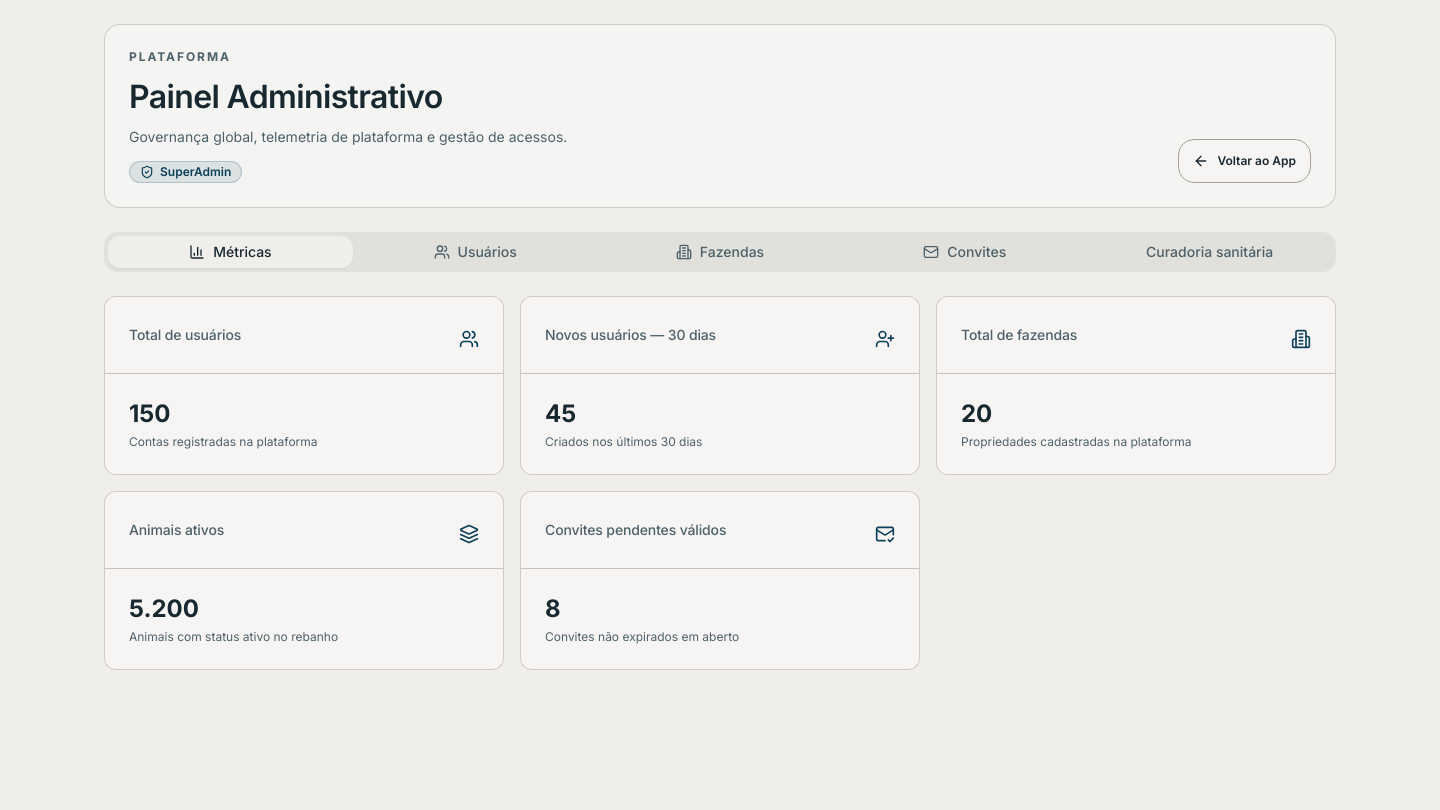
AdminBackoffice Page (A3.1 + A4) › permite alternar entre as abas e carregar a listagem de usuários
This screenshot has width=1440, height=810.
Step 1. Click the tab "Usuários" → (475, 252), box [353,236,598,268]
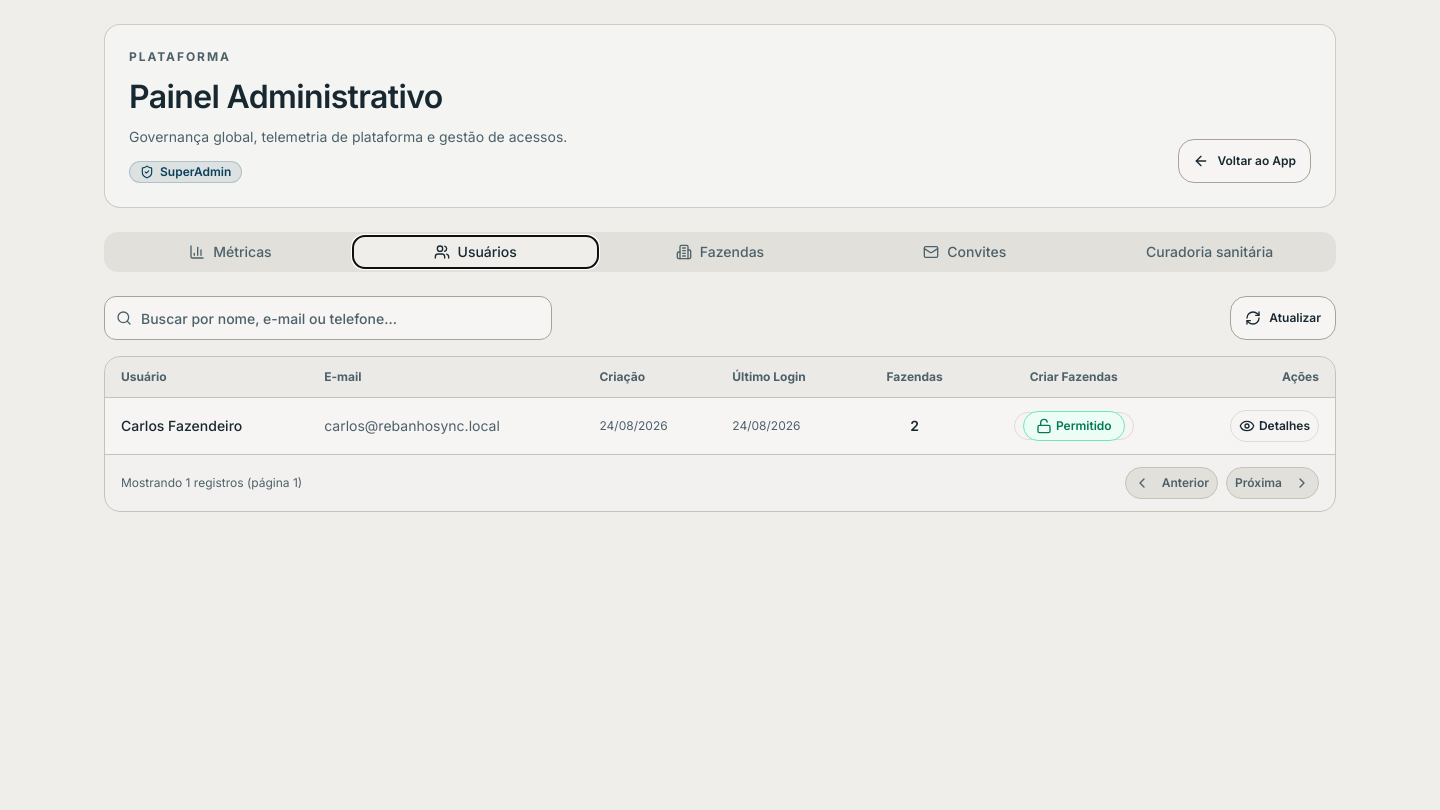
Now the text "Carlos Fazendeiro" is shown, box [105,398,308,454]
Now the text "carlos@rebanhosync.local" is shown, box [308,398,584,454]
Now the text "Permitido" is shown, box [1023,411,1125,441]
